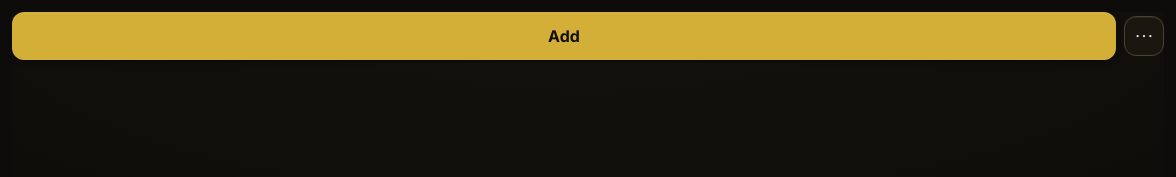
Scenario: ActionMenu › premium: one primary + a "..." button; the menu opens, an item runs and closes it
The image size is (1176, 177).
Check: the number of buttons with class "sf-btn--primary" is 1, box x1=12 y1=12 x2=1116 y2=60
Step 1. Click the button named "More actions" → (1144, 36), box x1=1124 y1=16 x2=1164 y2=56
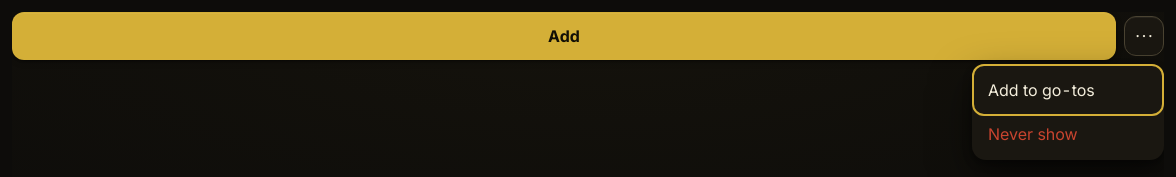
Check: the menu is shown, box x1=972 y1=64 x2=1164 y2=160
Step 2. Click the menu item "Never show" → (1068, 134), box x1=976 y1=112 x2=1160 y2=156
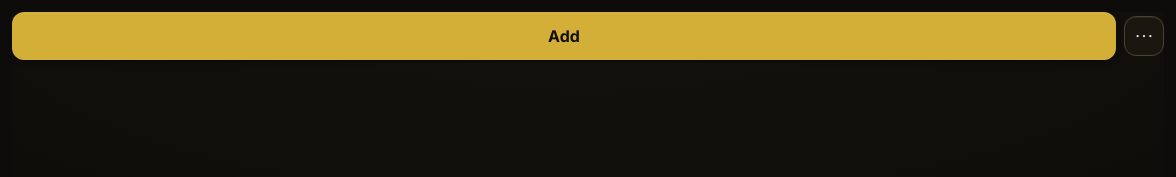
Check: the menu is gone
